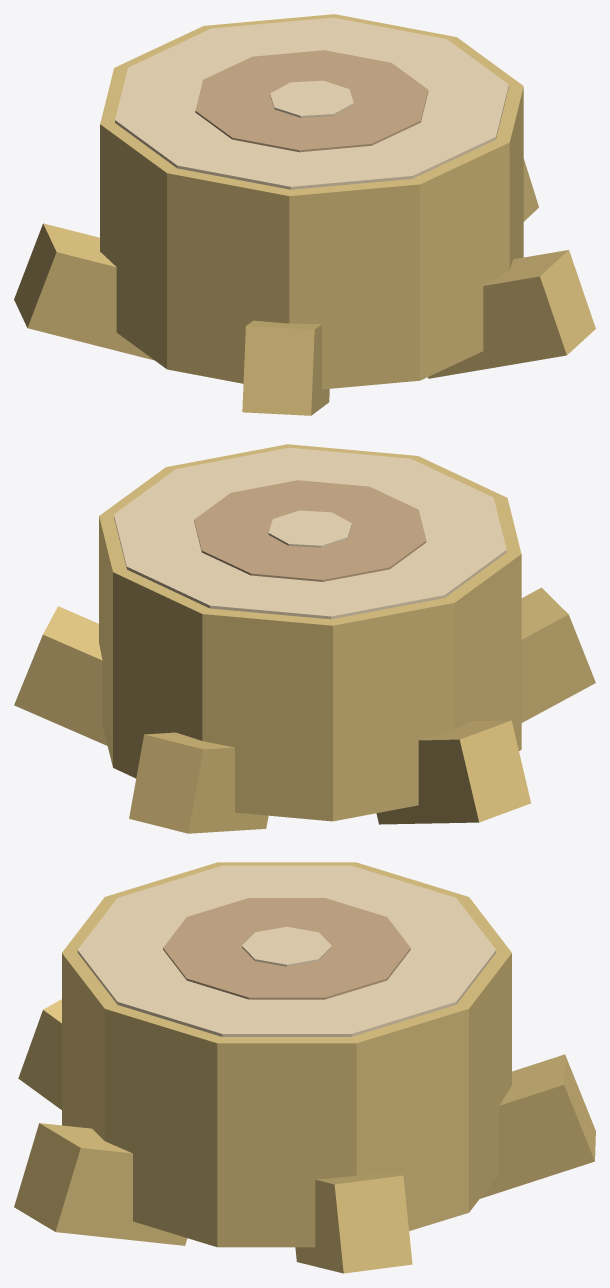
Rendered from Stump_Gold.fbx.
3 renders of one model, top to bottom at view 1: azimuth 30°, elevation 25°; view 2: azimuth 150°, elevation 25°; view 3: azimuth 270°, elevation 25°, orthographic. The views are drawn at different scales.
Visible parts, largest first — view 1: Stump_Gold_Mesh; view 2: Stump_Gold_Mesh; view 3: Stump_Gold_Mesh.
Boxes of the visible parts, x1=… form: Stump_Gold_Mesh: x1=14, y1=14, x2=595, y2=415; Stump_Gold_Mesh: x1=14, y1=444, x2=595, y2=833; Stump_Gold_Mesh: x1=14, y1=862, x2=595, y2=1273.
Bounding box in the file's own units: 2.71 × 1.23 × 2.59.
